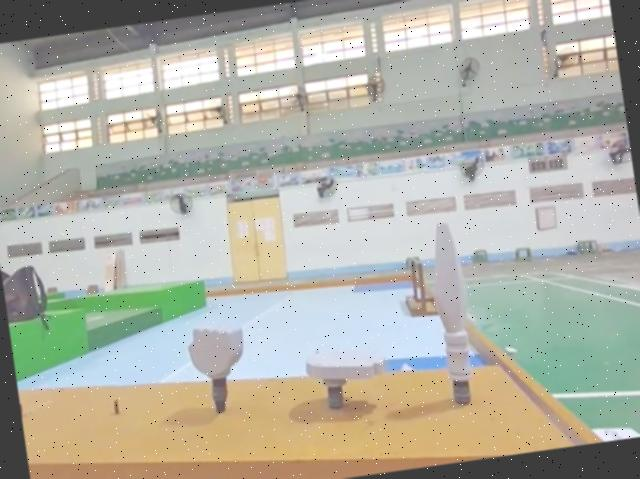Fist: (182, 317, 256, 421)
Hand: (301, 338, 394, 415)
Sph: (423, 219, 486, 413)
